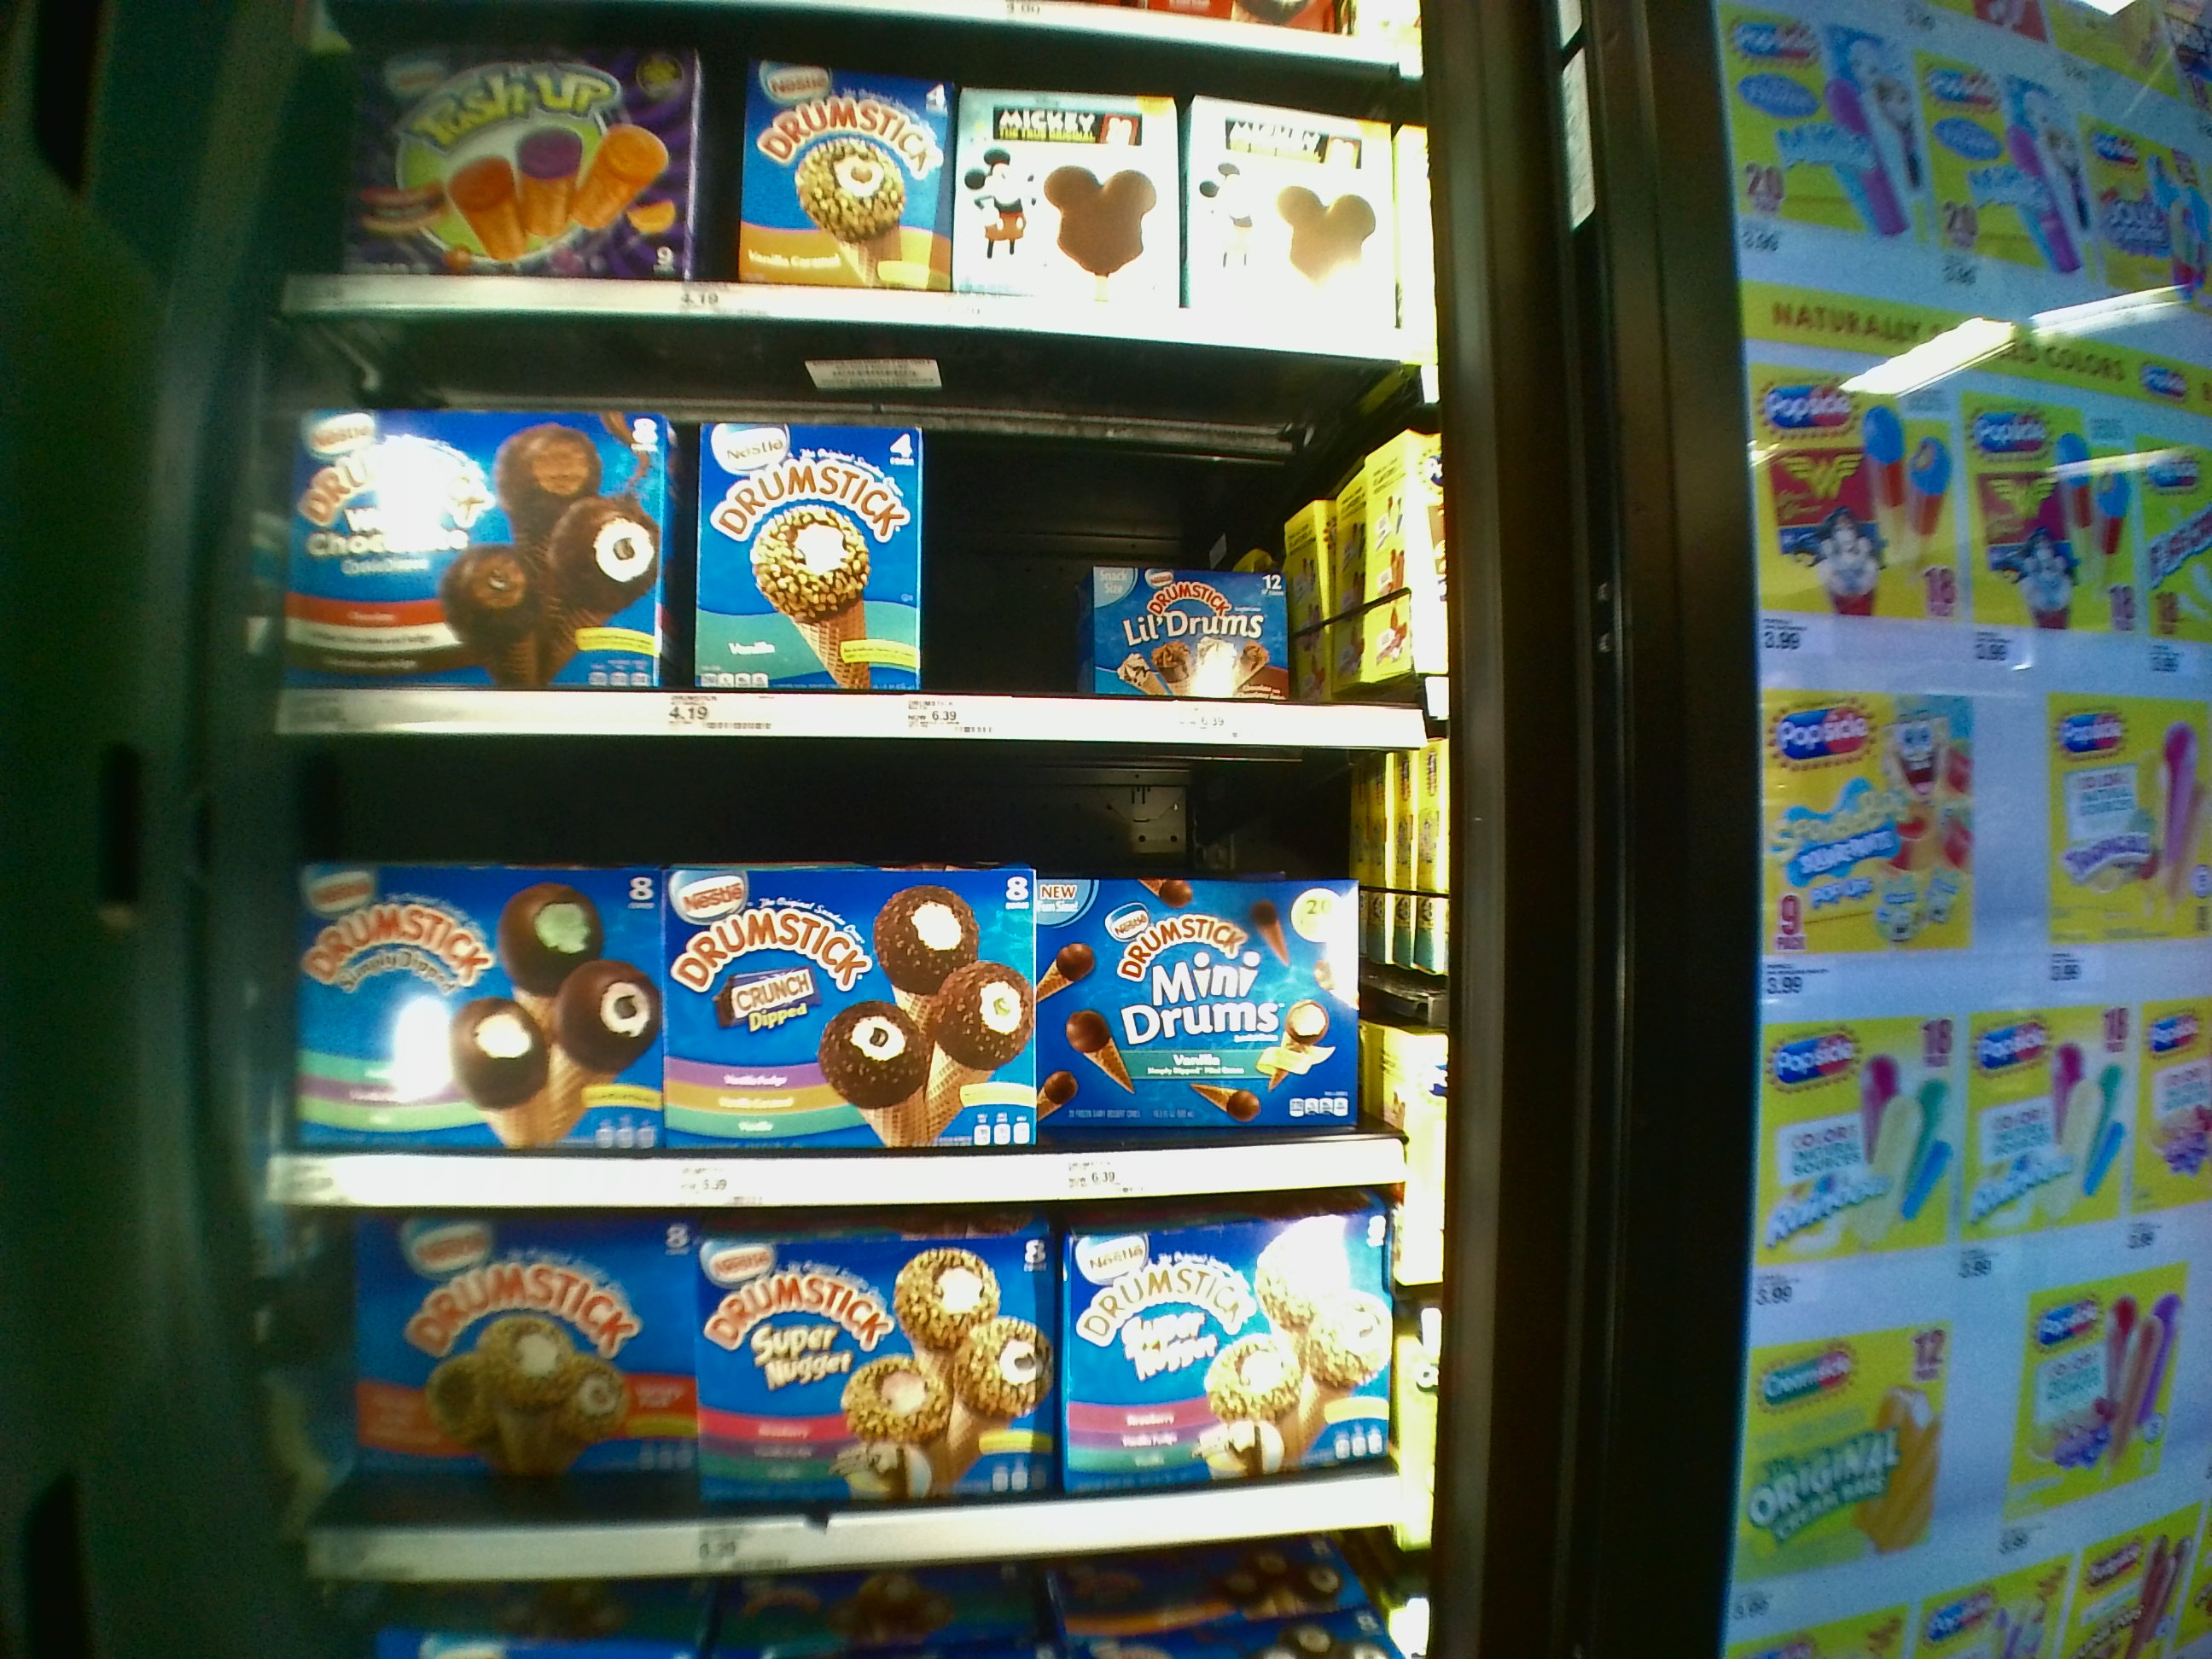shelf: (273, 742, 1430, 1195), (272, 317, 1421, 744), (293, 1194, 1416, 1574), (284, 7, 1432, 331)
